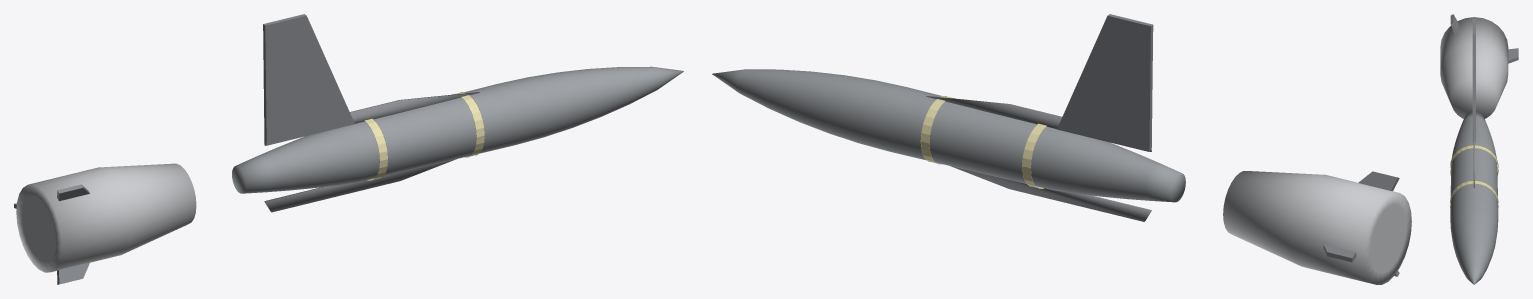
The model's file is US_STRAT_RegulusII_LOD1.fbx.
The picture shows the model from 3 angles, left to right: view 1: azimuth 30°, elevation 25°; view 2: azimuth 150°, elevation 25°; view 3: azimuth 270°, elevation 25°; orthographic projection. The views are drawn at different scales.
Visible parts, largest first — view 1: WPN_US_STRAT_RegulusII_LOD1_Body, WPN_US_STRAT_RegulusII_LOD1_Tail, WPN_US_STRAT_RegulusII_LOD1_Wings, WPN_US_STRAT_RegulusII_LOD1_Detail, WPN_US_STRAT_RegulusII_LOD1_Marking, WPN_US_STRAT_RegulusII_LOD1_Fins; view 2: WPN_US_STRAT_RegulusII_LOD1_Body, WPN_US_STRAT_RegulusII_LOD1_Tail, WPN_US_STRAT_RegulusII_LOD1_Wings, WPN_US_STRAT_RegulusII_LOD1_Detail, WPN_US_STRAT_RegulusII_LOD1_Marking, WPN_US_STRAT_RegulusII_LOD1_Fins; view 3: WPN_US_STRAT_RegulusII_LOD1_Body, WPN_US_STRAT_RegulusII_LOD1_Tail, WPN_US_STRAT_RegulusII_LOD1_Wings, WPN_US_STRAT_RegulusII_LOD1_Marking, WPN_US_STRAT_RegulusII_LOD1_Fins, WPN_US_STRAT_RegulusII_LOD1_Detail.
Part boxes in pixels (x1,y1,x2,y2): WPN_US_STRAT_RegulusII_LOD1_Body: (232, 66, 683, 193); WPN_US_STRAT_RegulusII_LOD1_Tail: (16, 163, 196, 272); WPN_US_STRAT_RegulusII_LOD1_Wings: (263, 14, 354, 145); WPN_US_STRAT_RegulusII_LOD1_Detail: (264, 92, 479, 212); WPN_US_STRAT_RegulusII_LOD1_Marking: (364, 92, 484, 180); WPN_US_STRAT_RegulusII_LOD1_Fins: (14, 184, 89, 284); WPN_US_STRAT_RegulusII_LOD1_Body: (712, 69, 1185, 202); WPN_US_STRAT_RegulusII_LOD1_Tail: (1223, 171, 1411, 284); WPN_US_STRAT_RegulusII_LOD1_Wings: (1057, 14, 1153, 151); WPN_US_STRAT_RegulusII_LOD1_Detail: (926, 96, 1151, 221); WPN_US_STRAT_RegulusII_LOD1_Marking: (920, 96, 1046, 188); WPN_US_STRAT_RegulusII_LOD1_Fins: (1323, 171, 1399, 276); WPN_US_STRAT_RegulusII_LOD1_Body: (1450, 112, 1498, 284); WPN_US_STRAT_RegulusII_LOD1_Tail: (1440, 17, 1508, 118); WPN_US_STRAT_RegulusII_LOD1_Wings: (1472, 18, 1475, 142); WPN_US_STRAT_RegulusII_LOD1_Marking: (1450, 145, 1498, 209); WPN_US_STRAT_RegulusII_LOD1_Fins: (1450, 14, 1518, 63); WPN_US_STRAT_RegulusII_LOD1_Detail: (1473, 131, 1474, 187).
Bounding box in the file's own units: 17.5 × 2.45 × 5.09.
